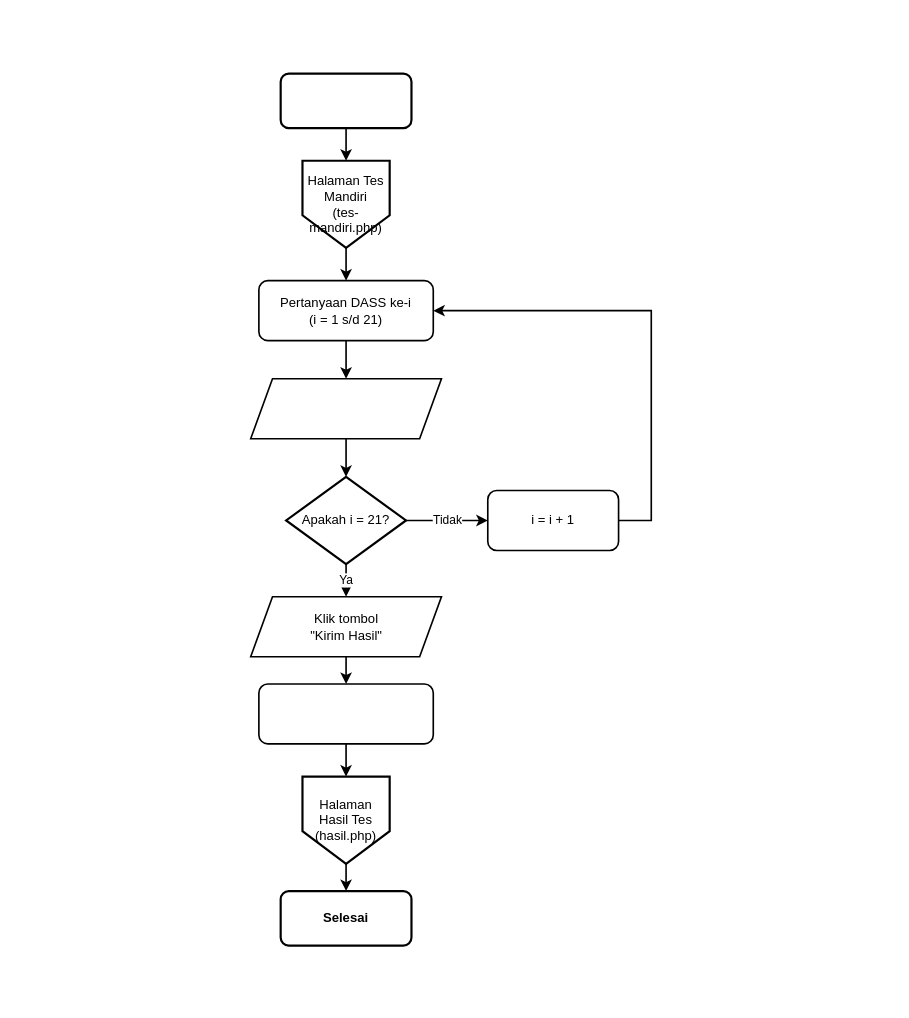
This 909x1018 diagram has some shape labels left out. The centre of each missing label's shape, as x and y in pixels:
"Mulai" belongs at pixel 345 100.
"Pilih skala jawaban (0, 1, 2, atau 3)" belongs at pixel 345 408.
"Sistem menghitung total skor Depresi, Kecemasan, & Stres" belongs at pixel 346 713.
